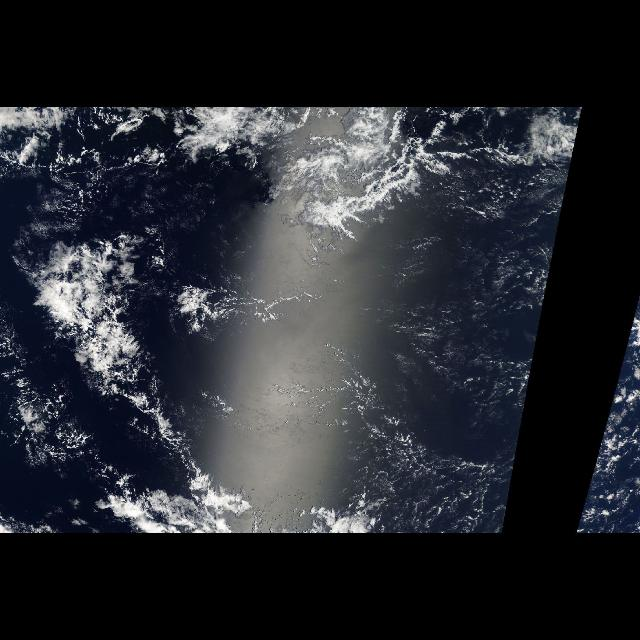Fish: (4, 107, 496, 533)
Sugar: (282, 348, 504, 490), (38, 142, 212, 240)
